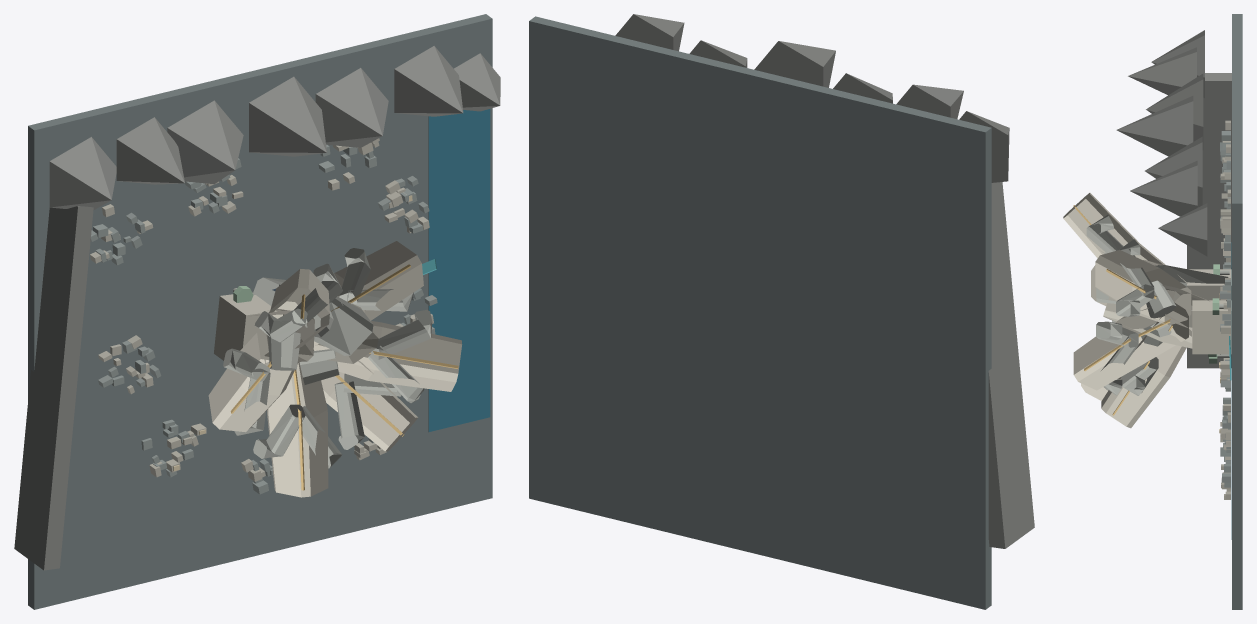
Rendered from Habitat-Crown-wet.glb.
The picture shows the model from 3 angles, left to right: view 1: azimuth 30°, elevation 25°; view 2: azimuth 150°, elevation 25°; view 3: azimuth 270°, elevation 25°; orthographic projection. The views are drawn at different scales.
Parts seen in each view (by area): view 1: 10km_study_terrain, east_artificial_inland_sea, west_cliff_face, north_mountain_peak_4, H5_inhabited_artery, north_mountain_peak_3, north_mountain_peak_5, H1_inhabited_artery, north_mountain_peak_6, north_mountain_peak_1, north_mountain_peak_2, H4_inhabited_artery (+21 smaller); view 2: 10km_study_terrain, west_cliff_face, north_mountain_peak_4, north_mountain_peak_6, north_mountain_peak_2, north_mountain_peak_1, north_mountain_peak_3, north_mountain_peak_5; view 3: 10km_study_terrain, west_cliff_face, H1_inhabited_artery, H2_inhabited_artery, north_mountain_peak_4, H6_inhabited_artery, north_mountain_peak_6, H3_inhabited_artery, root_city_east_wing, north_mountain_peak_2, north_mountain_peak_7, north_mountain_peak_3 (+15 smaller).
Part boxes in pixels (x1,y1,x2,y2): 10km_study_terrain: [28, 14, 492, 609]; east_artificial_inland_sea: [428, 109, 490, 431]; west_cliff_face: [14, 206, 93, 570]; north_mountain_peak_4: [249, 76, 326, 156]; H5_inhabited_artery: [264, 350, 328, 497]; north_mountain_peak_3: [167, 100, 243, 184]; north_mountain_peak_5: [315, 68, 388, 147]; H1_inhabited_artery: [313, 321, 462, 391]; north_mountain_peak_6: [394, 46, 463, 116]; north_mountain_peak_1: [49, 137, 116, 210]; north_mountain_peak_2: [116, 117, 184, 184]; H4_inhabited_artery: [208, 333, 298, 432]; 10km_study_terrain: [529, 16, 991, 609]; west_cliff_face: [988, 182, 1034, 548]; north_mountain_peak_4: [754, 41, 835, 87]; north_mountain_peak_6: [615, 14, 684, 51]; north_mountain_peak_2: [896, 84, 963, 118]; north_mountain_peak_1: [959, 111, 1009, 182]; north_mountain_peak_3: [833, 73, 892, 103]; north_mountain_peak_5: [689, 40, 747, 67]; 10km_study_terrain: [1232, 14, 1242, 609]; west_cliff_face: [1187, 73, 1231, 368]; H1_inhabited_artery: [1073, 302, 1188, 390]; H2_inhabited_artery: [1095, 250, 1191, 325]; north_mountain_peak_4: [1116, 96, 1193, 156]; H6_inhabited_artery: [1101, 314, 1191, 428]; north_mountain_peak_6: [1130, 160, 1197, 216]; H3_inhabited_artery: [1063, 193, 1187, 283]; root_city_east_wing: [1192, 300, 1231, 354]; north_mountain_peak_2: [1128, 47, 1196, 95]; north_mountain_peak_7: [1158, 203, 1207, 256]; north_mountain_peak_3: [1146, 73, 1203, 149].
Size of the model in its own units: 10.37 by 10.27 by 4.
